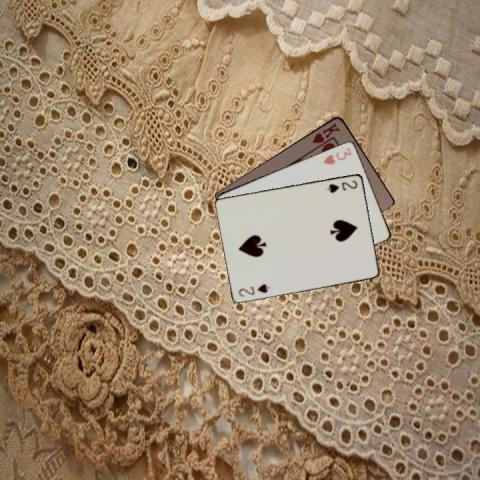2s: (324, 177, 359, 194), (235, 281, 270, 298)
3h: (320, 145, 353, 165)
Kh: (310, 120, 342, 145)
